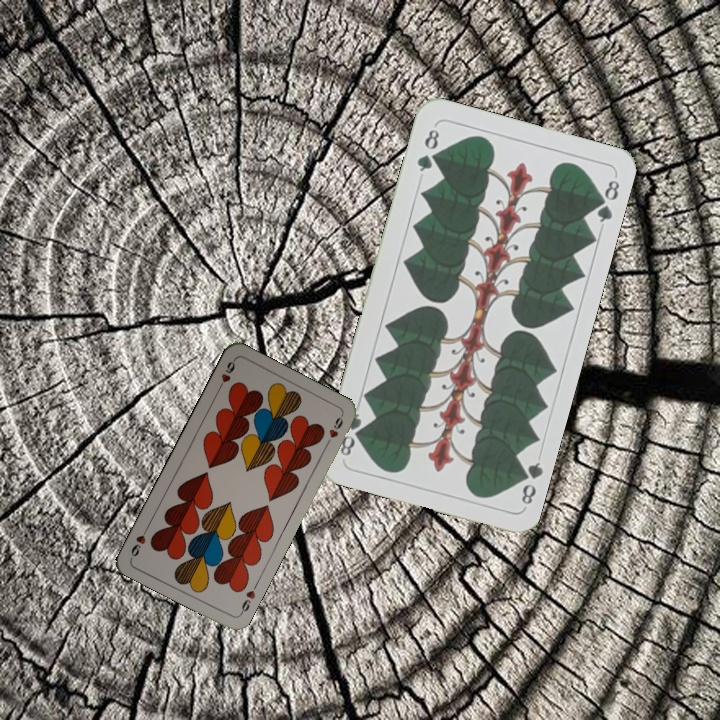G8: (513, 458, 545, 507), (413, 125, 442, 174)
H9: (214, 356, 238, 394), (236, 586, 258, 617)
